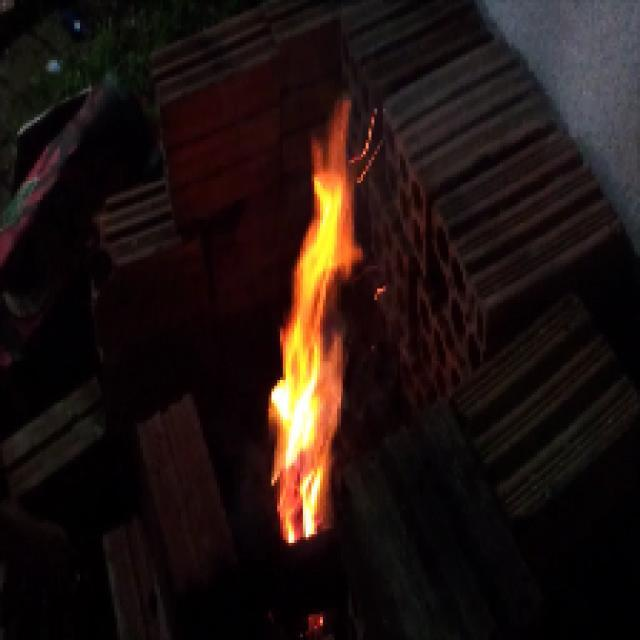Fire: (272, 145, 352, 552)
